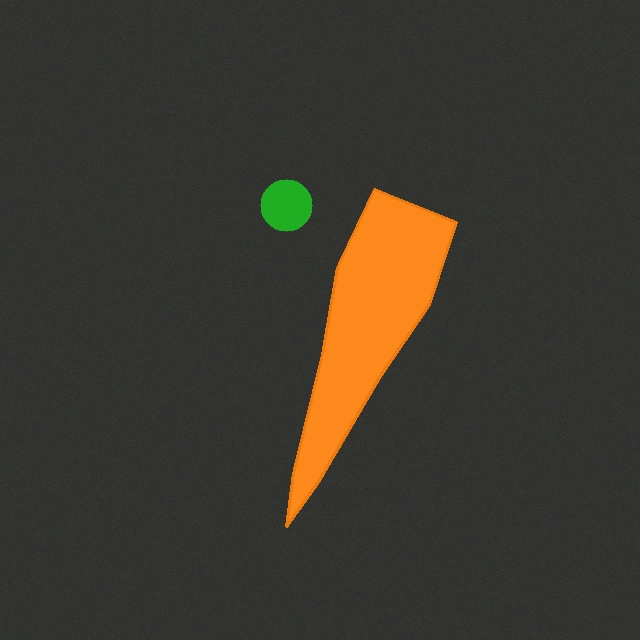Good_Carrot: (278, 181, 464, 534)
